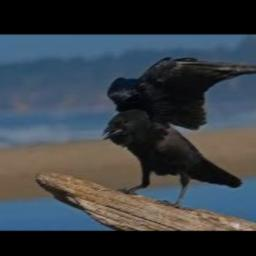Crow: (102, 56, 256, 210)
